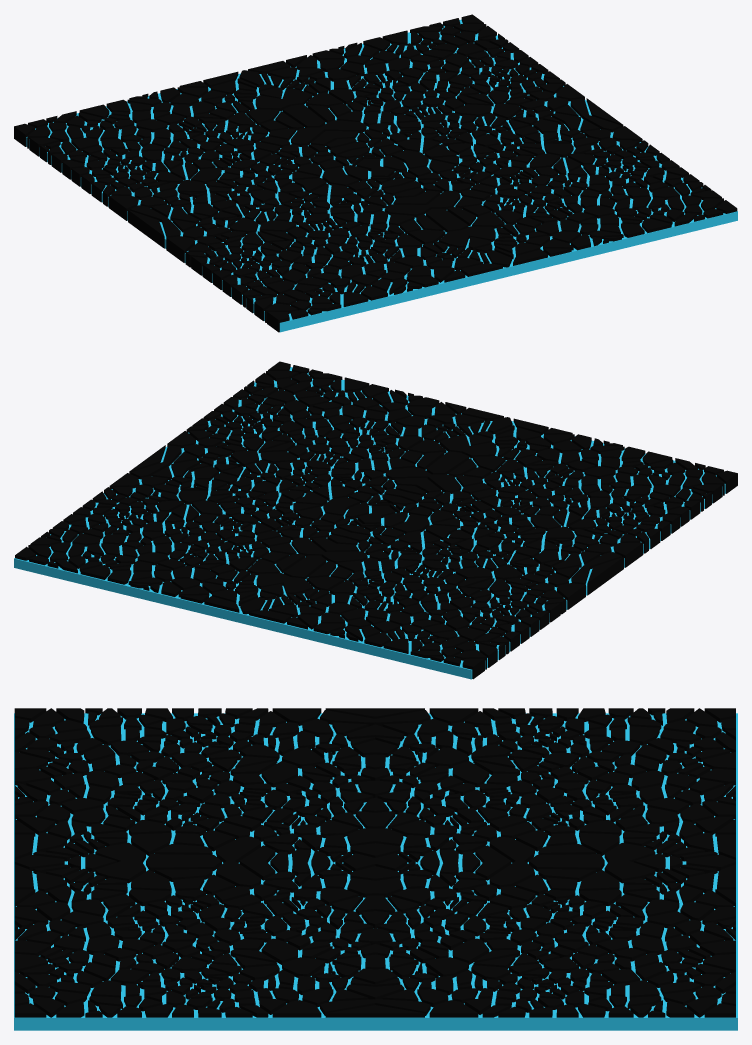
File: floor.glb
3 renders of one model, top to bottom at view 1: azimuth 30°, elevation 25°; view 2: azimuth 150°, elevation 25°; view 3: azimuth 270°, elevation 25°, orthographic. The views are drawn at different scales.
Visible parts, largest first — view 1: Object_1, Object_0; view 2: Object_1, Object_0; view 3: Object_1, Object_0.
Part boxes in pixels (x1,y1,x2,y2): Object_1: (14,14,737,332); Object_0: (26,19,737,332); Object_1: (15,361,737,679); Object_0: (14,367,725,679); Object_1: (14,708,735,1017); Object_0: (14,713,737,1030).
Size of the model in its own units: 0.3107 by 0.008 by 0.3115.
